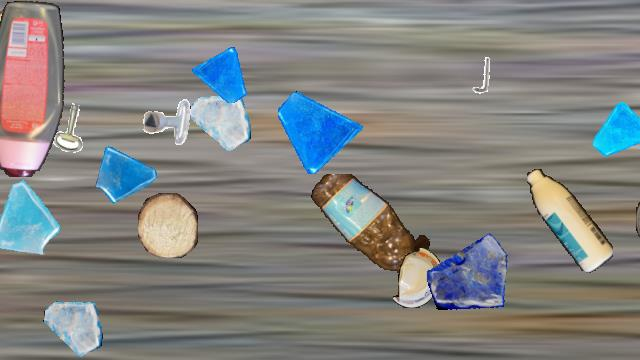glass: (427, 227, 513, 313), (278, 89, 362, 173), (0, 179, 61, 259), (93, 140, 159, 206), (190, 93, 250, 153), (43, 299, 103, 359), (192, 46, 248, 102), (593, 102, 640, 160)
metal: (45, 100, 101, 156), (142, 97, 194, 149), (460, 55, 500, 95)
plastic: (308, 174, 432, 272), (0, 1, 69, 177), (527, 169, 613, 273), (393, 248, 443, 308), (636, 184, 640, 258)
wood: (138, 193, 198, 257), (0, 9, 62, 41)
